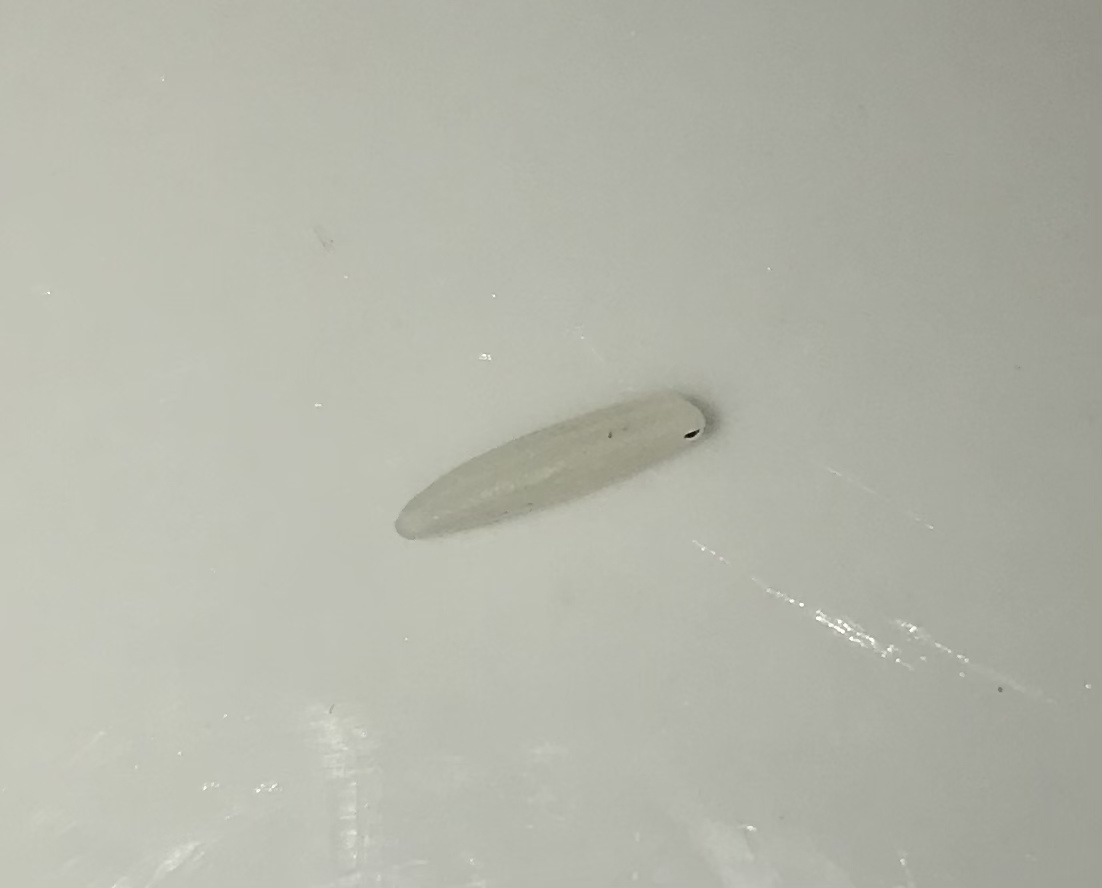Gao Thom Go Cong: (360, 378, 728, 556)
